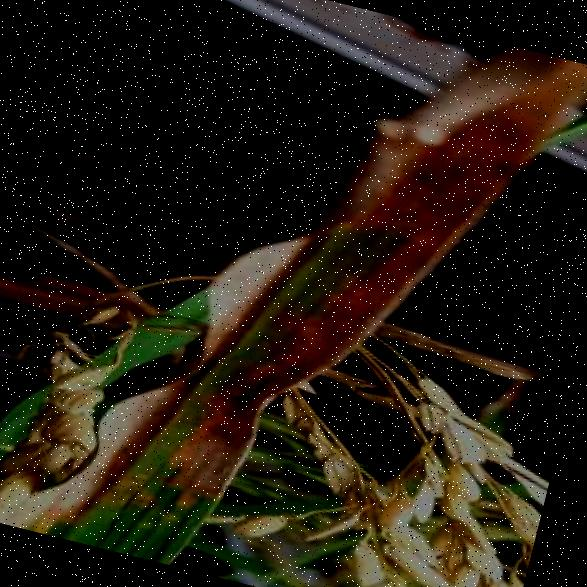Bacteria_Leaf_Blight: (107, 173, 371, 587)
